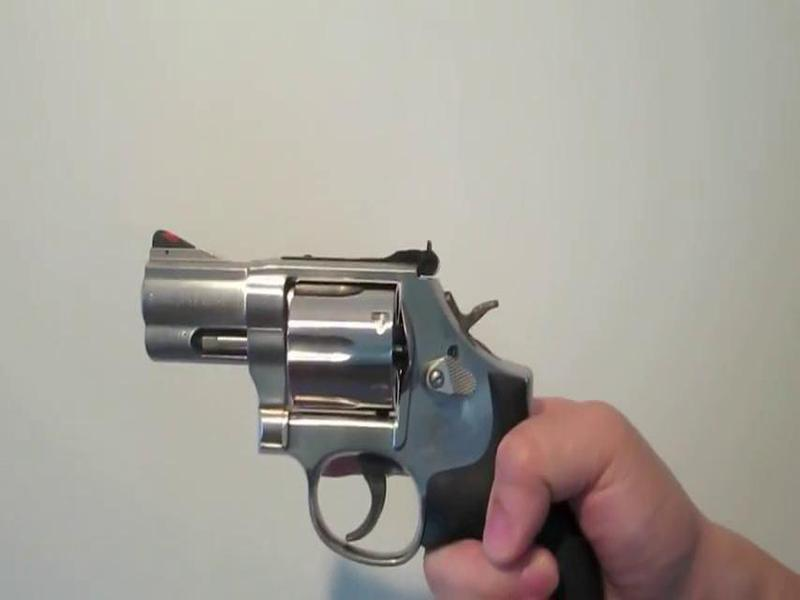Revolver: (110, 207, 626, 589)
